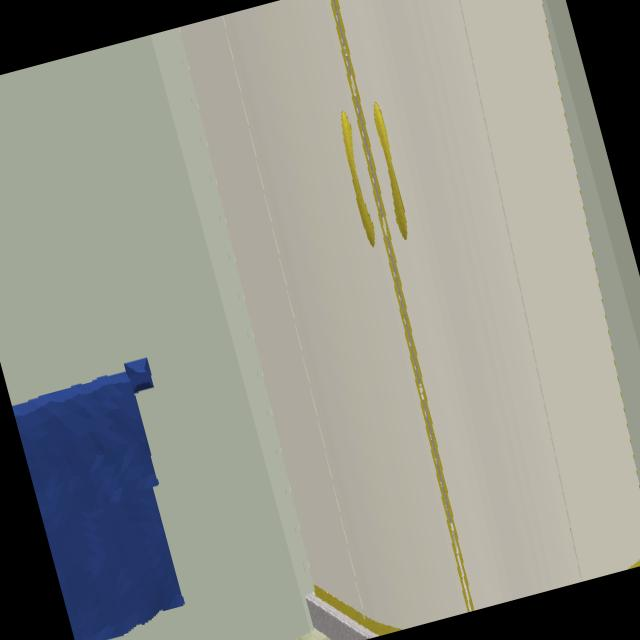shower: (178, 0, 640, 640)
